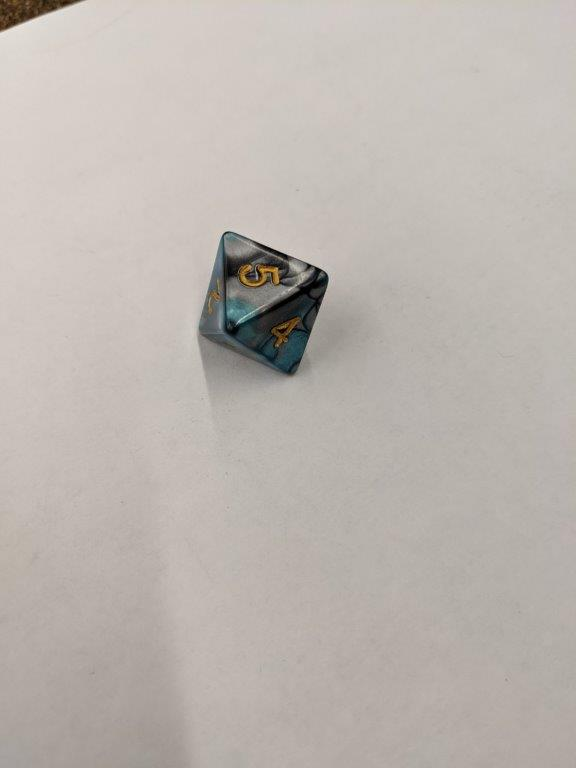d8-5: (193, 229, 329, 378)
